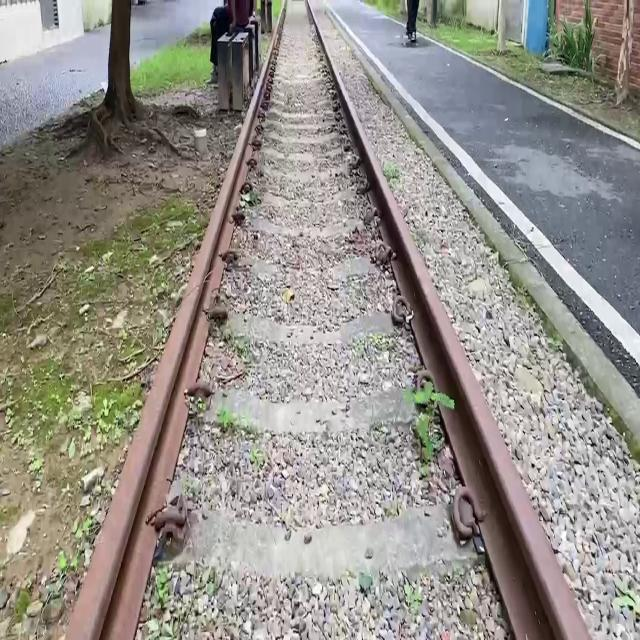rail-track: (139, 1, 511, 639)
